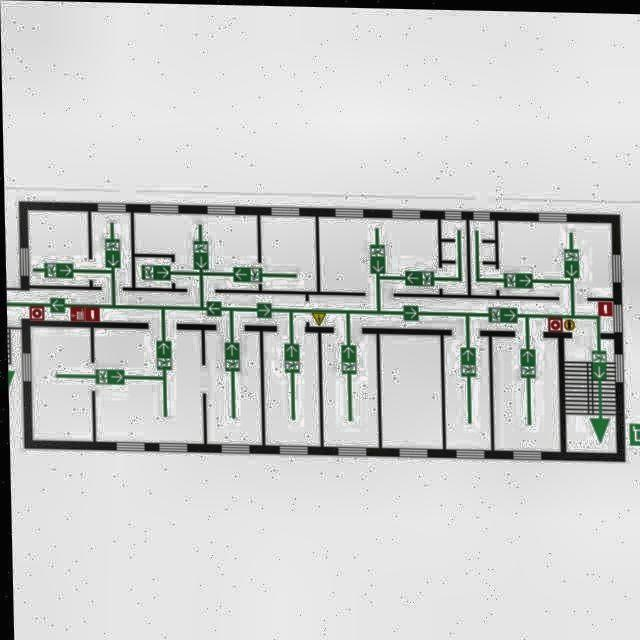room: (25, 287, 611, 330), (92, 327, 201, 445), (131, 212, 259, 290), (316, 217, 439, 292), (495, 221, 612, 297), (493, 335, 559, 451), (28, 324, 91, 442), (378, 333, 440, 449), (261, 329, 317, 447), (203, 330, 258, 444), (321, 332, 375, 447), (562, 337, 614, 452), (443, 332, 488, 451), (26, 211, 88, 287), (260, 214, 315, 291), (91, 212, 131, 289), (132, 256, 172, 287), (469, 261, 495, 295), (440, 262, 466, 293), (439, 218, 466, 238), (468, 241, 496, 260), (467, 217, 493, 237), (440, 241, 467, 260)
